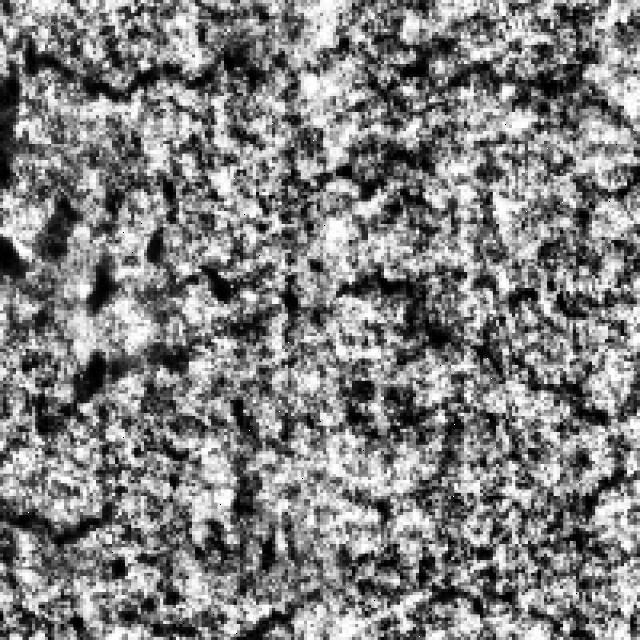Pitted_Surface: (340, 253, 630, 612), (3, 19, 509, 205), (28, 150, 202, 550)
